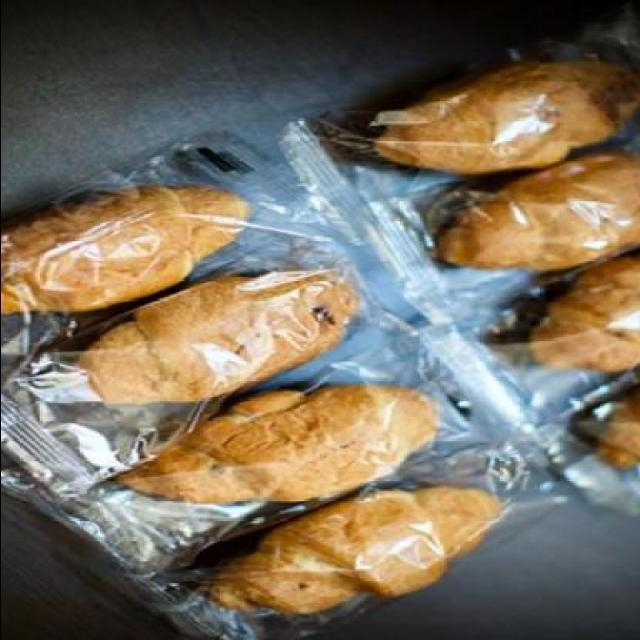Merendine: (2, 222, 406, 476), (21, 377, 474, 569), (160, 440, 557, 640), (1, 143, 324, 357), (328, 48, 638, 210), (412, 150, 638, 308)
